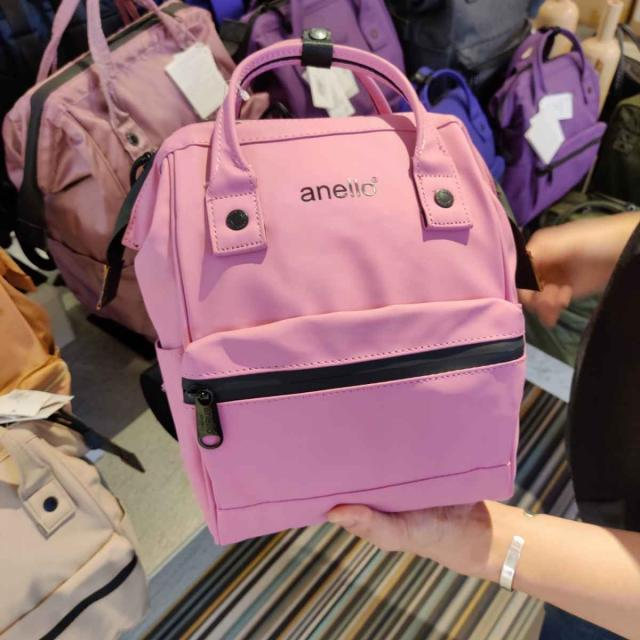handbag: (124, 41, 525, 546)
